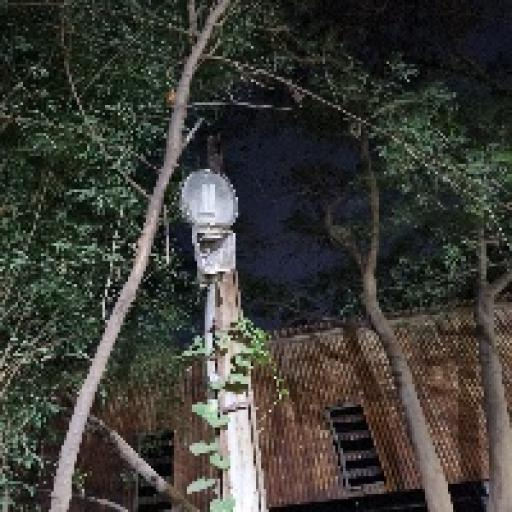Not Working: (154, 156, 275, 284)
